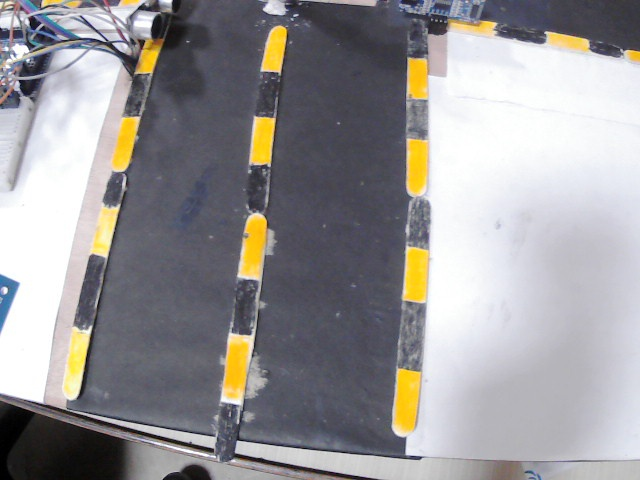black_strip: (79, 262, 107, 327), (399, 298, 420, 367), (256, 66, 281, 116), (406, 195, 429, 249), (238, 277, 259, 336), (405, 98, 434, 139), (214, 405, 234, 462), (103, 169, 128, 209), (495, 20, 543, 40), (251, 166, 273, 209), (130, 74, 149, 116), (588, 37, 625, 53)
mixed_lane: (56, 24, 175, 399), (213, 24, 295, 465), (393, 26, 437, 440), (428, 14, 640, 66)
uno_breadboard: (0, 16, 59, 115), (394, 0, 483, 31), (120, 0, 178, 45), (0, 274, 24, 334)
yellow_strip: (222, 331, 256, 401), (236, 213, 268, 278), (66, 326, 93, 395), (92, 204, 123, 261), (392, 366, 416, 439), (113, 115, 142, 171), (408, 140, 432, 195), (135, 35, 166, 73), (535, 29, 588, 51), (251, 116, 271, 168), (408, 247, 426, 301), (264, 27, 286, 68), (410, 55, 429, 96), (450, 16, 494, 33), (626, 45, 640, 60)
